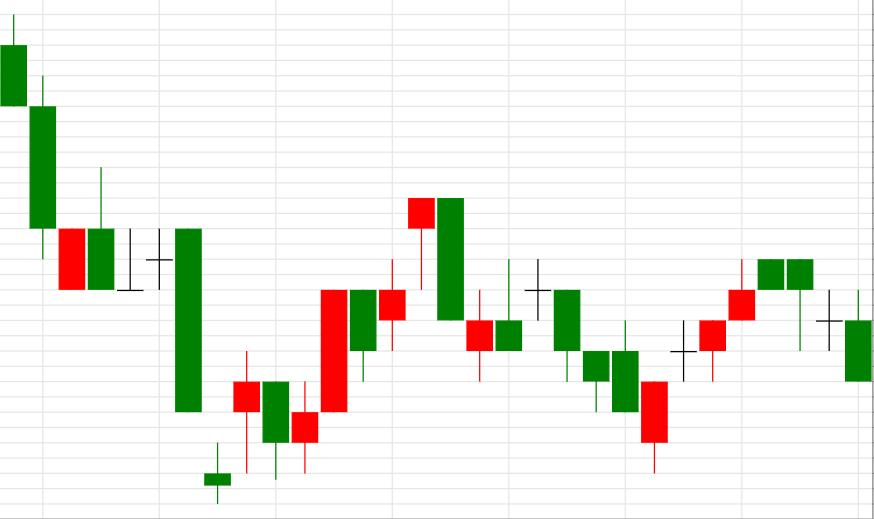hanging_man_fall: (292, 198, 435, 475), (642, 259, 813, 473)
